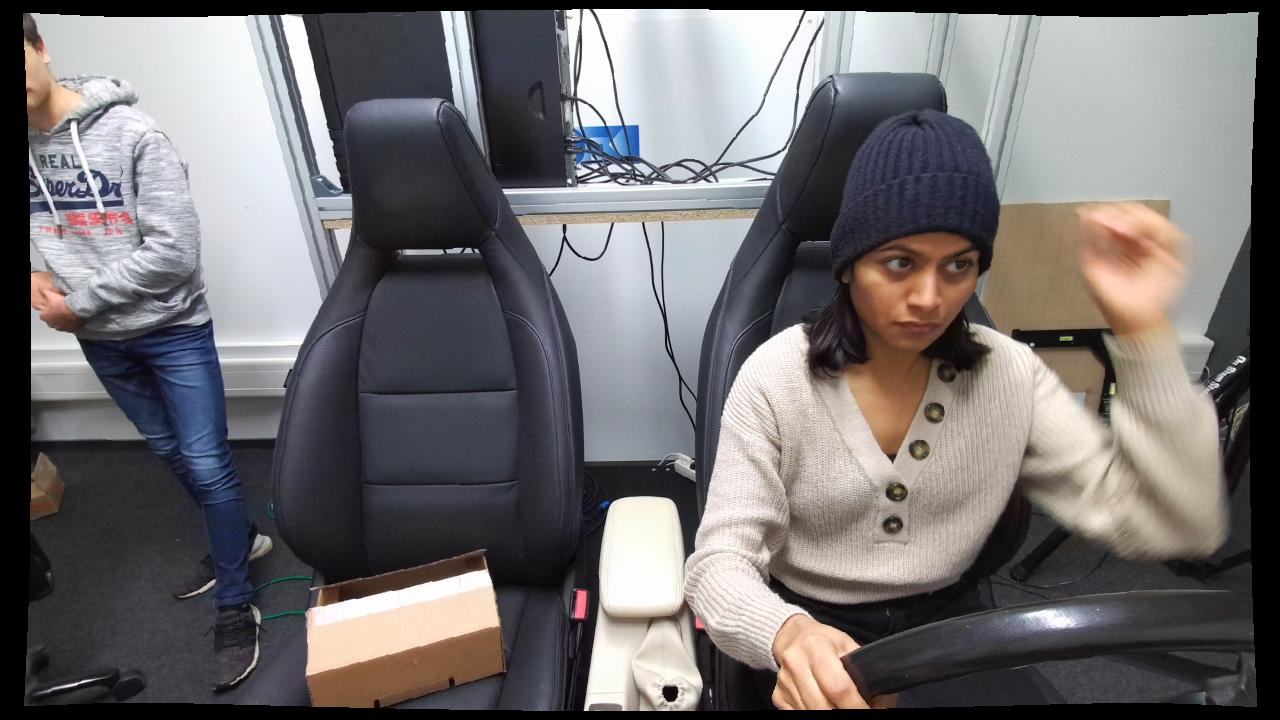Distracted: (684, 110, 1218, 716)
